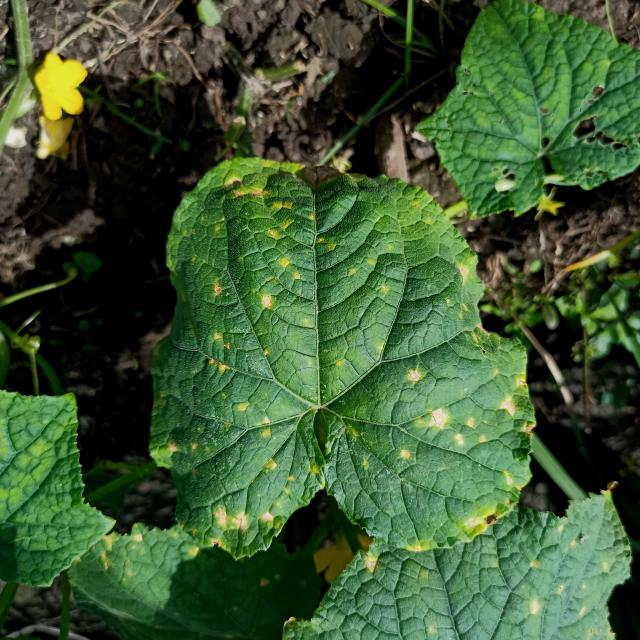disease_cucumber: (160, 166, 534, 544), (527, 518, 596, 618)
